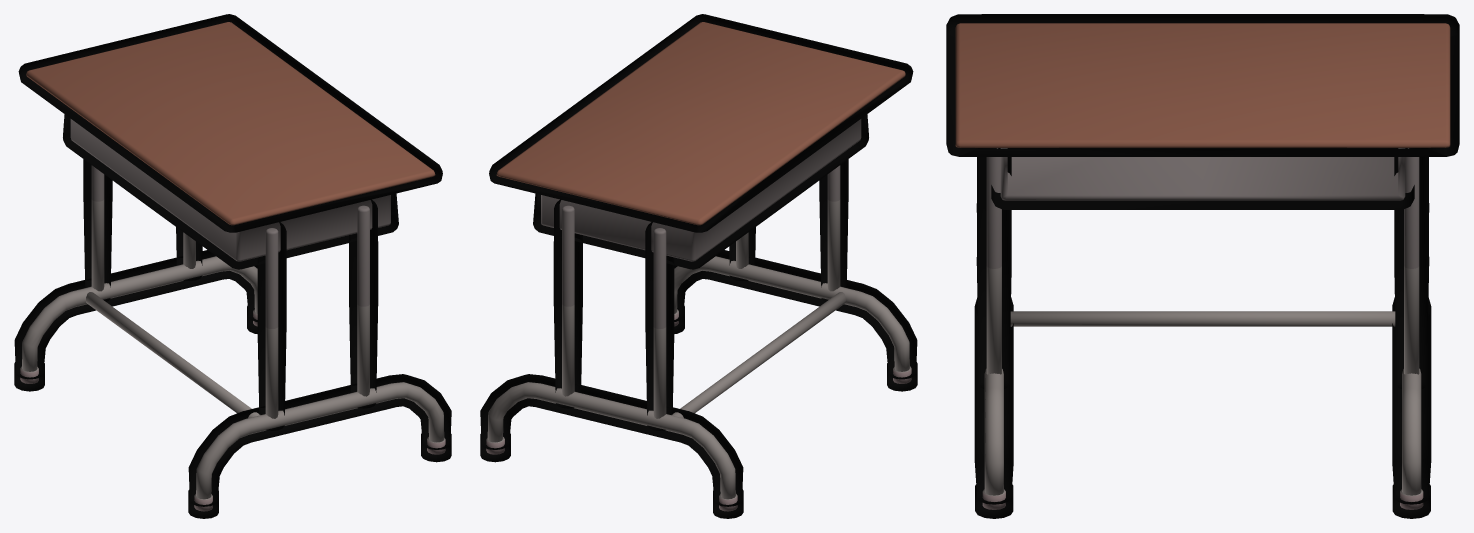
The model's file is StudDesk2.fbx.
3 views of the same model, side by side, from view 1: azimuth 30°, elevation 25°; view 2: azimuth 150°, elevation 25°; view 3: azimuth 270°, elevation 25° (orthographic). The views are drawn at different scales.
Visible parts, largest first — view 1: Circle.027; view 2: Circle.027; view 3: Circle.027.
Boxes of the visible parts, <box> form: Circle.027: <box>14,14,451,518</box>; Circle.027: <box>480,14,917,518</box>; Circle.027: <box>946,14,1459,518</box>.
Size of the model in its own units: 294 by 334 by 421.
